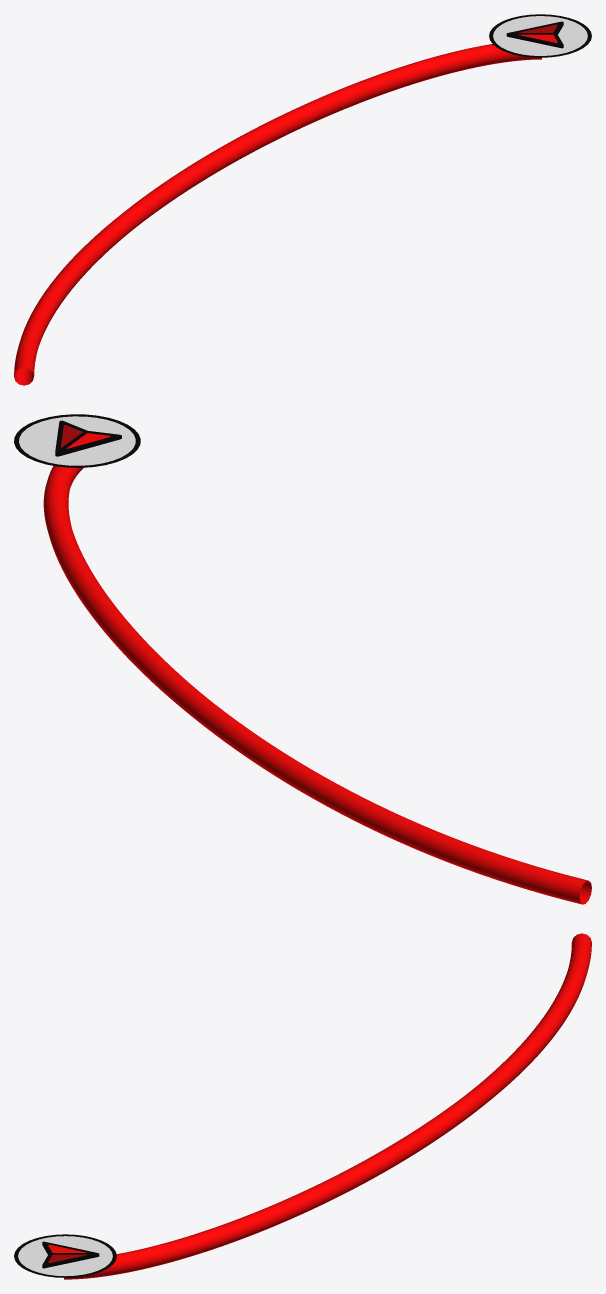
The model's file is route_b626f301-5cfe-4e14-9f40-6889f9db1067_de_target.glb.
The picture shows the model from 3 angles, top to bottom: view 1: azimuth 90°, elevation 25°; view 2: azimuth 150°, elevation 25°; view 3: azimuth 270°, elevation 25°; orthographic projection. The views are drawn at different scales.
Visible parts, largest first — view 1: Chefärzte der Chirurgie und Orthopädie, Navipfeil.001; view 2: Chefärzte der Chirurgie und Orthopädie, Navipfeil.001; view 3: Chefärzte der Chirurgie und Orthopädie, Navipfeil.001.
Boxes of the visible parts, x1,y1,x2,y2 form: Chefärzte der Chirurgie und Orthopädie: (14, 44, 541, 385); Navipfeil.001: (489, 14, 591, 57); Chefärzte der Chirurgie und Orthopädie: (43, 466, 591, 904); Navipfeil.001: (14, 414, 140, 467); Chefärzte der Chirurgie und Orthopädie: (64, 933, 591, 1279); Navipfeil.001: (14, 1234, 116, 1277).
Bounding box in the file's own units: 3.28 × 0.1086 × 2.29.
